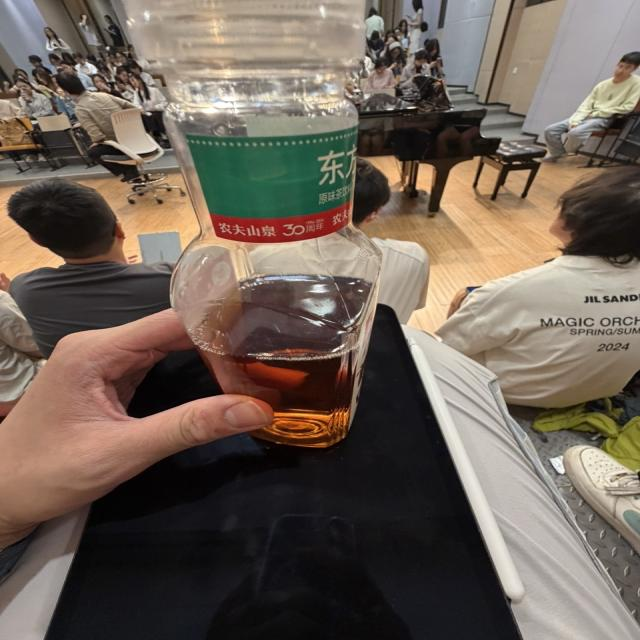medium: (136, 0, 379, 446)
